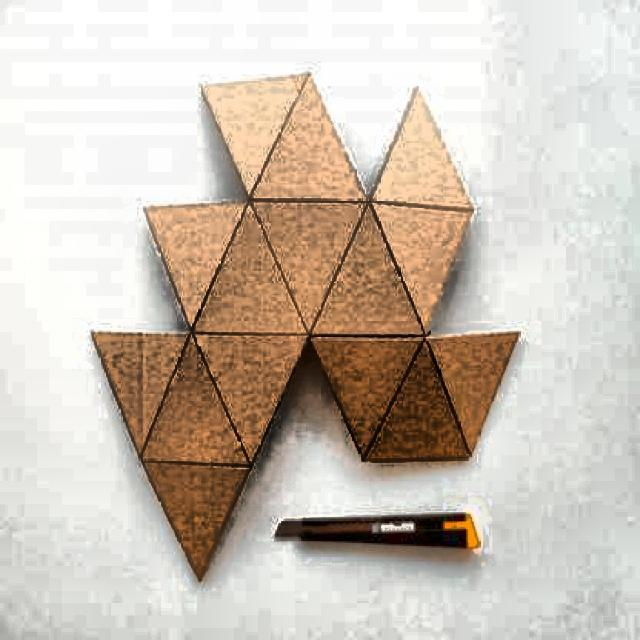Cardbox: (66, 45, 531, 611)
